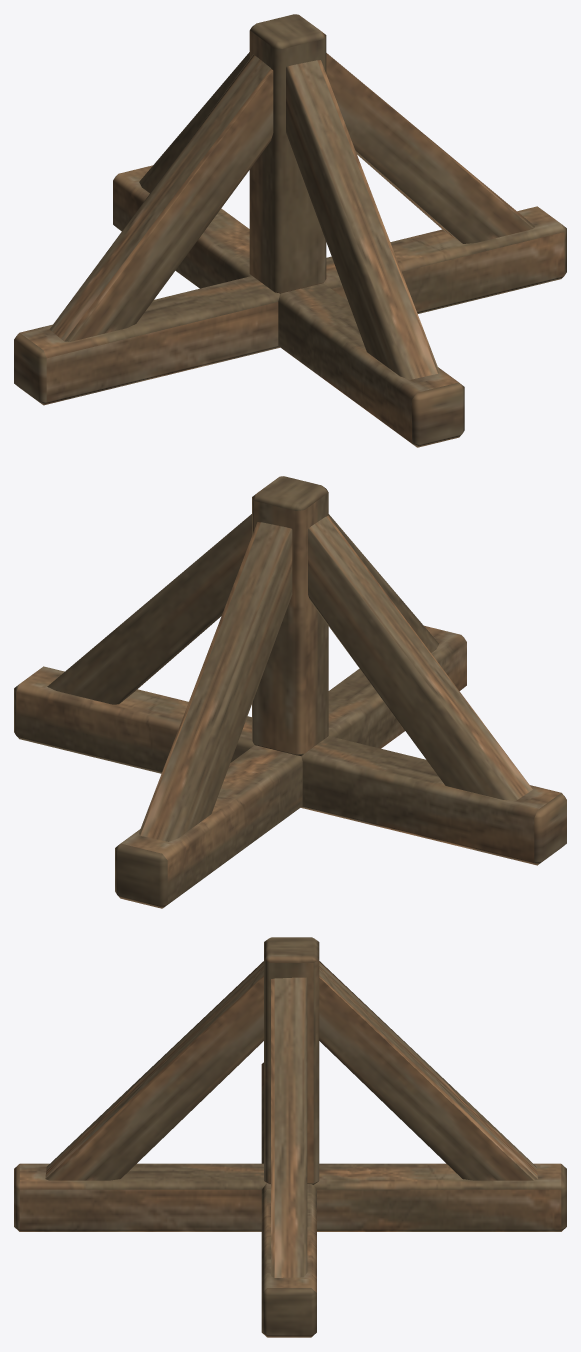
File: SM_bark_base_01.fbx
3 renders of one model, top to bottom at view 1: azimuth 30°, elevation 25°; view 2: azimuth 150°, elevation 25°; view 3: azimuth 270°, elevation 25°, orthographic. The views are drawn at different scales.
Parts seen in each view (by area): view 1: SM_bark_base_01_LOD0; view 2: SM_bark_base_01_LOD0; view 3: SM_bark_base_01_LOD0.
Boxes of the visible parts, box(x1,y1,x2,y2) form: SM_bark_base_01_LOD0: box(14, 14, 566, 447); SM_bark_base_01_LOD0: box(14, 476, 566, 908); SM_bark_base_01_LOD0: box(14, 937, 566, 1337).
Bounding box in the file's own units: 182 × 182 × 100.
Materials: 1 (1 with a texture image).
